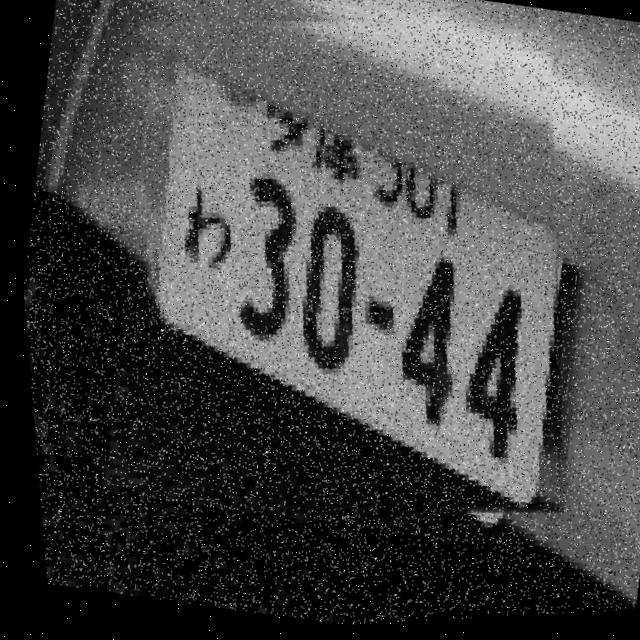LicensePlate: (62, 0, 631, 576)
